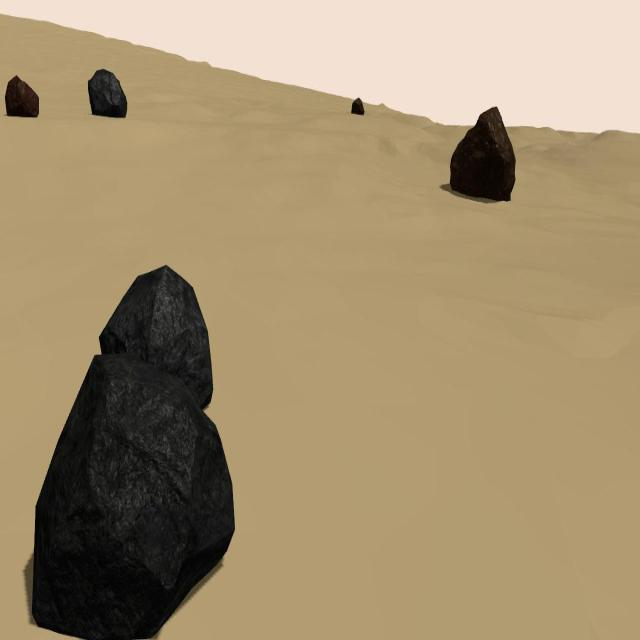rock: (36, 353, 234, 640), (98, 264, 213, 411), (450, 105, 516, 202), (87, 69, 127, 116), (6, 77, 39, 116), (352, 97, 364, 115), (5, 90, 5, 90)
